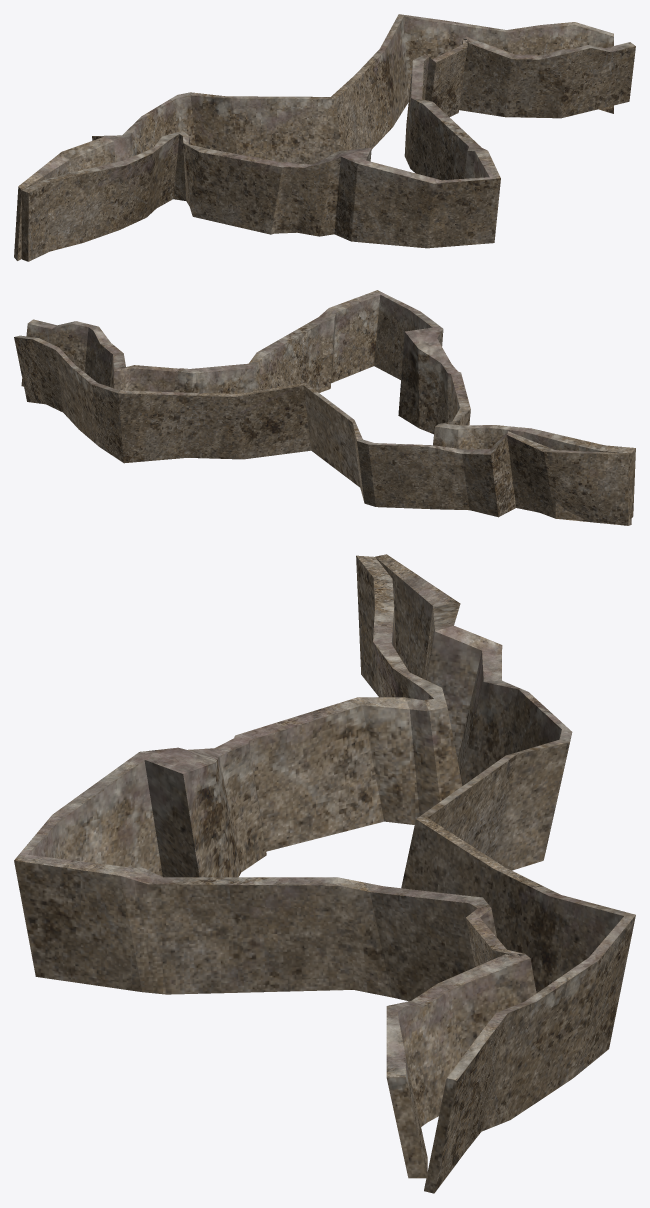
The model's file is Chasm_Floor_v2.fbx.
3 renders of one model, top to bottom at view 1: azimuth 30°, elevation 25°; view 2: azimuth 150°, elevation 25°; view 3: azimuth 270°, elevation 25°, orthographic. The views are drawn at different scales.
Parts seen in each view (by area): view 1: Chasm_Path; view 2: Chasm_Path; view 3: Chasm_Path.
Boxes of the visible parts, x1,y1,x2,y2 form: Chasm_Path: (14,14,635,261); Chasm_Path: (14,290,635,525); Chasm_Path: (14,554,635,1193).
Size of the model in its own units: 49541 by 7300 by 25681.
